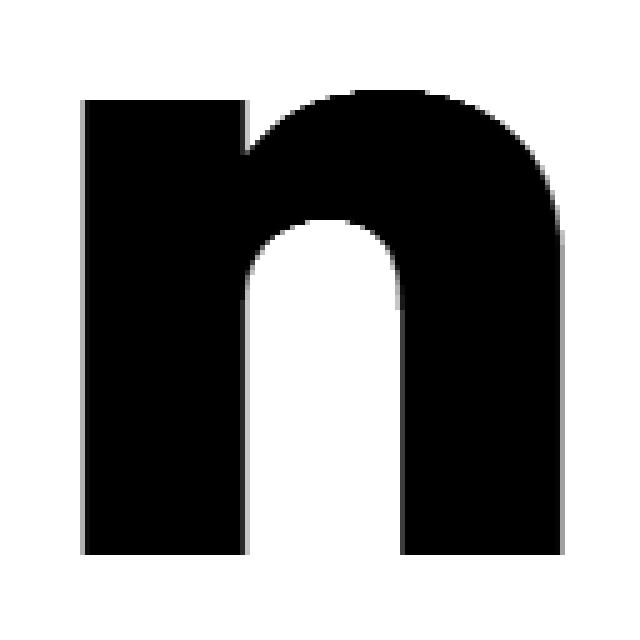N: (75, 80, 570, 560)
